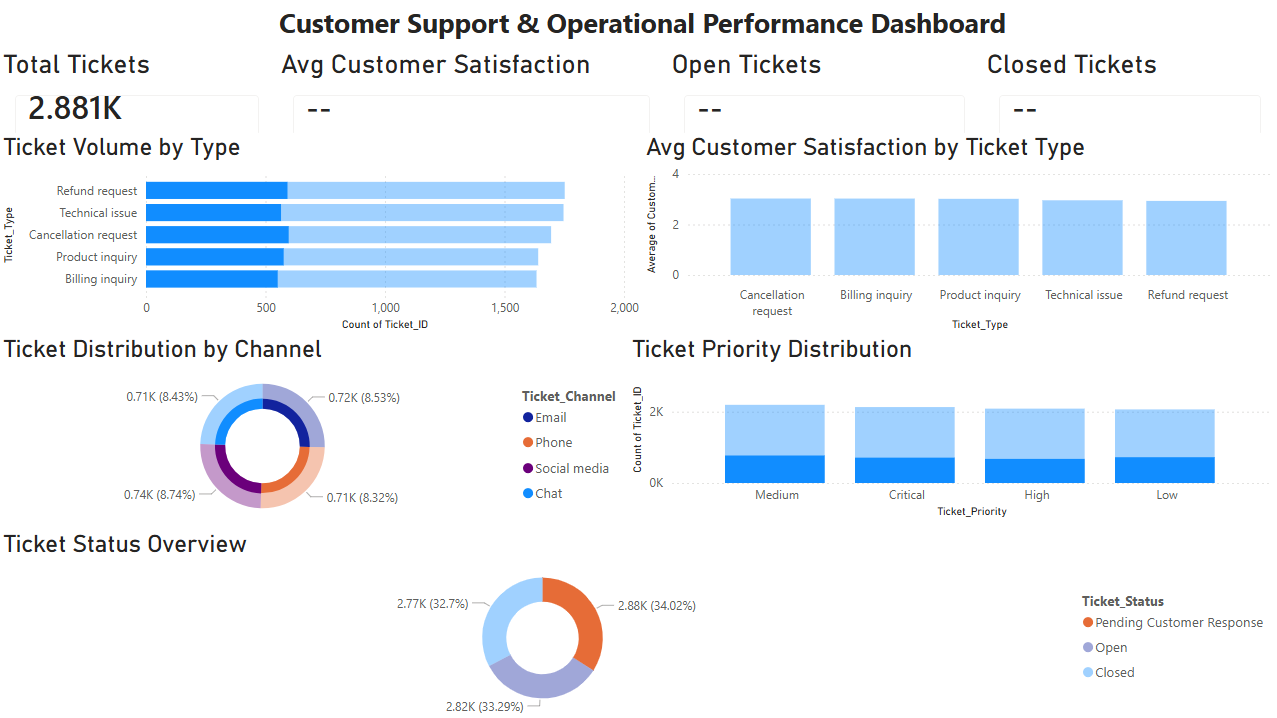

This screenshot's page, from the dashboard's own definition file:
{"tool":"powerbi","page":{"name":"Page 1","canvas":[1280,720],"ordinal":0},"visuals":[{"type":"textbox","box":[9.5,0,1270.5,67.2],"z":0},{"type":"cardVisual","title":"Total Tickets","fields":{"Data":["CountNonNull(customer_support_tickets.Ticket_ID)"]},"box":[0,48.8,277.5,105],"z":1000},{"type":"cardVisual","title":"Avg Customer Satisfaction","fields":{"Data":["Avg(customer_support_tickets.Customer_Satisfaction_Rating)"]},"box":[277.5,48.8,391.2,105],"z":2000},{"type":"cardVisual","title":"Open Tickets","fields":{"Data":["CountNonNull(customer_support_tickets.Ticket_Status)"]},"box":[668.8,48.8,315,105],"z":3000},{"type":"cardVisual","title":"Closed Tickets","fields":{"Data":["CountNonNull(customer_support_tickets.Ticket_Status)"]},"box":[983.8,48.8,296.2,105],"z":4000},{"type":"clusteredBarChart","title":"Ticket Volume by Type","fields":{"Category":["customer_support_tickets.Ticket_Type"],"Y":["CountNonNull(customer_support_tickets.Ticket_ID)"]},"box":[0,133.8,646.2,202.5],"z":5000},{"type":"clusteredColumnChart","title":"Avg Customer Satisfaction by Ticket Type","fields":{"Category":["customer_support_tickets.Ticket_Type"],"Y":["Avg(customer_support_tickets.Customer_Satisfaction_Rating)"]},"box":[642.5,133.8,635,202.5],"z":6000},{"type":"donutChart","title":"Ticket Distribution by Channel","fields":{"Category":["customer_support_tickets.Ticket_Channel"],"Y":["CountNonNull(customer_support_tickets.Ticket_ID)"]},"box":[0,336.2,640,195],"z":7000},{"type":"clusteredColumnChart","title":"Ticket Priority Distribution","fields":{"Category":["customer_support_tickets.Ticket_Priority"],"Y":["CountNonNull(customer_support_tickets.Ticket_ID)"]},"box":[628.8,336.2,648.8,186.2],"z":8000},{"type":"donutChart","title":"Ticket Status Overview","fields":{"Category":["customer_support_tickets.Ticket_Status"],"Y":["CountNonNull(customer_support_tickets.Ticket_Status)"]},"box":[0,531.2,1280,188.8],"z":9000}]}

Visuals, with their boxes in screenshot pixels (x1, y1, x2, y2), scaled from the page's 1280x720 canvas onto the 1277x718 screenshot:
textbox: (x1=9, y1=0, x2=1276, y2=67)
"Total Tickets" cardVisual: (x1=0, y1=49, x2=277, y2=153)
"Avg Customer Satisfaction" cardVisual: (x1=277, y1=49, x2=667, y2=153)
"Open Tickets" cardVisual: (x1=667, y1=49, x2=981, y2=153)
"Closed Tickets" cardVisual: (x1=981, y1=49, x2=1276, y2=153)
"Ticket Volume by Type" clusteredBarChart: (x1=0, y1=133, x2=645, y2=335)
"Avg Customer Satisfaction by Ticket Type" clusteredColumnChart: (x1=641, y1=133, x2=1275, y2=335)
"Ticket Distribution by Channel" donutChart: (x1=0, y1=335, x2=638, y2=530)
"Ticket Priority Distribution" clusteredColumnChart: (x1=627, y1=335, x2=1275, y2=521)
"Ticket Status Overview" donutChart: (x1=0, y1=530, x2=1276, y2=717)
